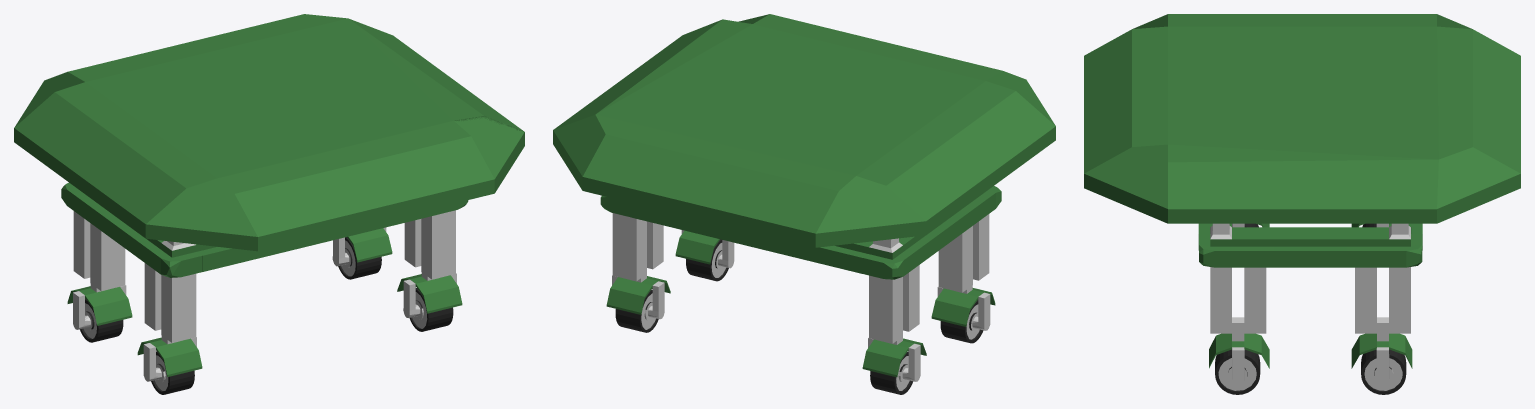
File: agrobotFull.fbx
The picture shows the model from 3 angles, left to right: view 1: azimuth 30°, elevation 25°; view 2: azimuth 150°, elevation 25°; view 3: azimuth 270°, elevation 25°; orthographic projection. The views are drawn at different scales.
Parts seen in each view (by area): view 1: roof, leg, wheel holder, wheel, beam width, beam length; view 2: roof, leg, wheel holder, beam width, wheel, beam length; view 3: roof, leg, wheel holder, beam length, wheel.
Part boxes in pixels (x1,y1,x2,y2): roof: (14,14,524,251); leg: (61,182,468,342); wheel holder: (67,227,462,381); wheel: (80,237,453,394); beam width: (197,208,436,271); beam length: (96,209,139,252); roof: (553,14,1055,247); leg: (600,186,1001,343); wheel holder: (606,230,995,381); beam width: (632,203,872,273); wheel: (615,239,983,394); beam length: (924,212,966,254); roof: (1084,14,1520,223); leg: (1199,223,1422,333); wheel holder: (1209,223,1412,385); beam length: (1274,227,1346,267); wheel: (1215,223,1406,394).
Bounding box in the file's own units: 3054 × 1803 × 2984.
